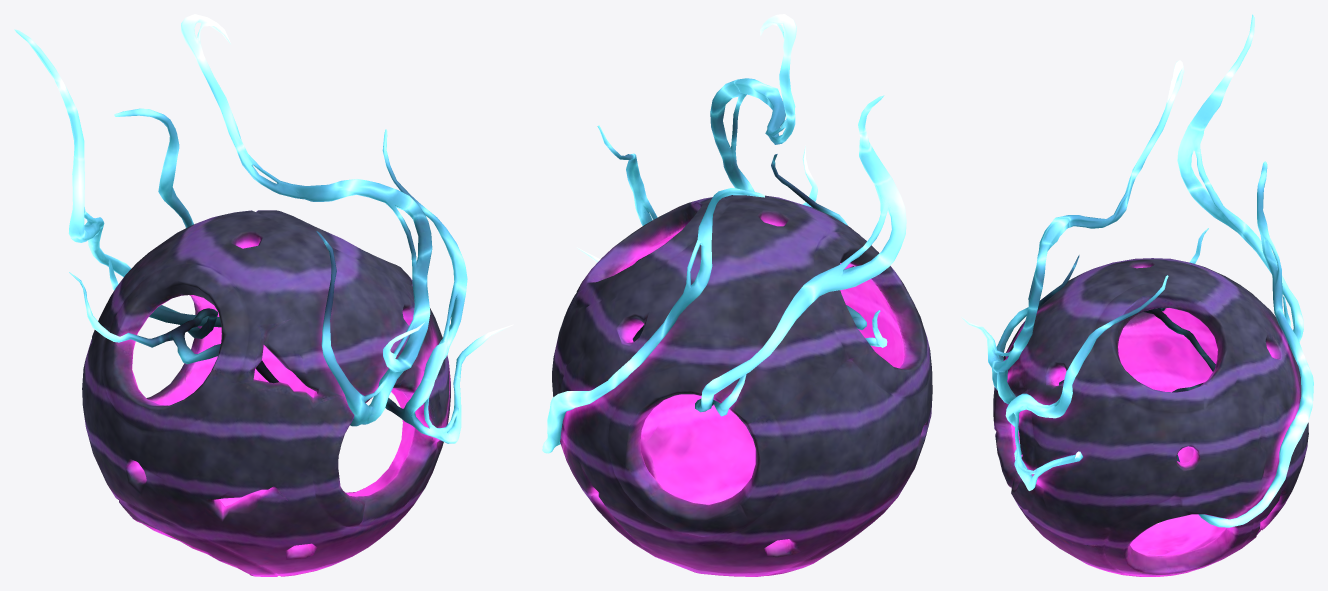
The model's file is caos_drs_chaospot_01b_v35.glb.
3 renders of one model, left to right at view 1: azimuth 30°, elevation 25°; view 2: azimuth 150°, elevation 25°; view 3: azimuth 270°, elevation 25°, orthographic. The views are drawn at different scales.
Parts seen in each view (by area): view 1: caos_drs_chaospot_01b; view 2: caos_drs_chaospot_01b; view 3: caos_drs_chaospot_01b.
Part boxes in pixels (box(x1,y1,x2,y2)): caos_drs_chaospot_01b: box(14, 14, 513, 576); caos_drs_chaospot_01b: box(542, 14, 932, 576); caos_drs_chaospot_01b: box(961, 14, 1313, 576).
Bounding box in the file's own units: 2.53 × 3.33 × 2.24.
Materials: 2 (2 with a texture image).
